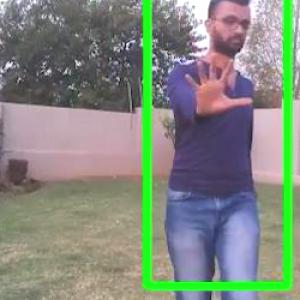follow_hand: (179, 43, 256, 120)
